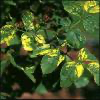Tomato leaf mosaic virus: (41, 51, 65, 75), (60, 62, 81, 89), (66, 28, 86, 49), (60, 1, 84, 17), (19, 11, 36, 31), (81, 14, 98, 34), (56, 18, 72, 27)
